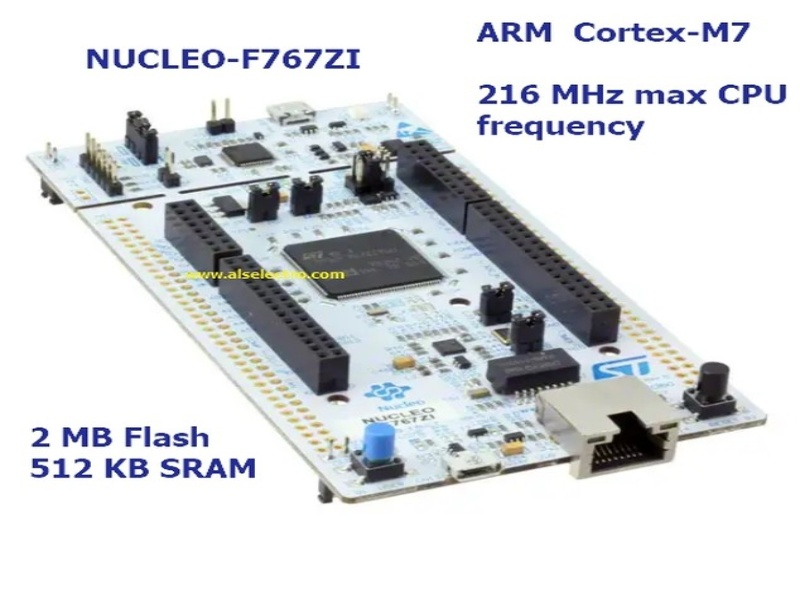stmnucleo: (16, 76, 778, 503)
